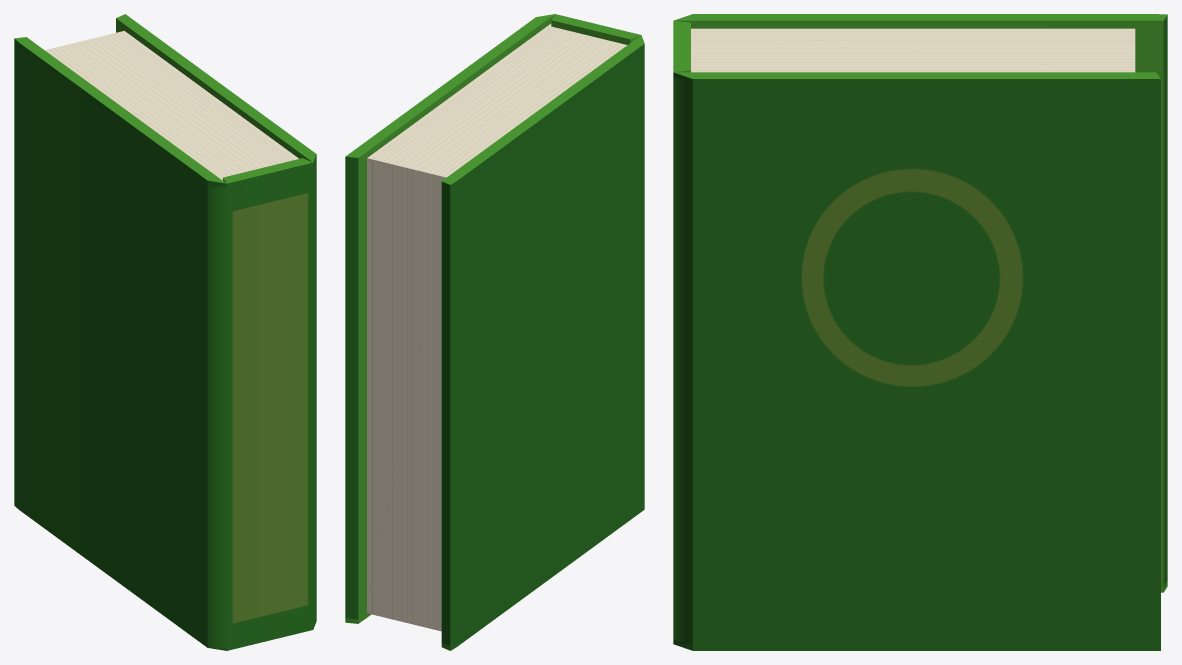
File: bookGreen.fbx
The picture shows the model from 3 angles, left to right: view 1: azimuth 30°, elevation 25°; view 2: azimuth 150°, elevation 25°; view 3: azimuth 270°, elevation 25°; orthographic projection. The views are drawn at different scales.
Parts seen in each view (by area): view 1: book; view 2: book; view 3: book.
Boxes of the visible parts, x1=… form: book: x1=14, y1=14, x2=316, y2=650; book: x1=345, y1=14, x2=644, y2=650; book: x1=673, y1=14, x2=1167, y2=650.
Bounding box in the file's own units: 0.5003 × 2.05 × 1.6.
Materials: 1 (1 with a texture image).
